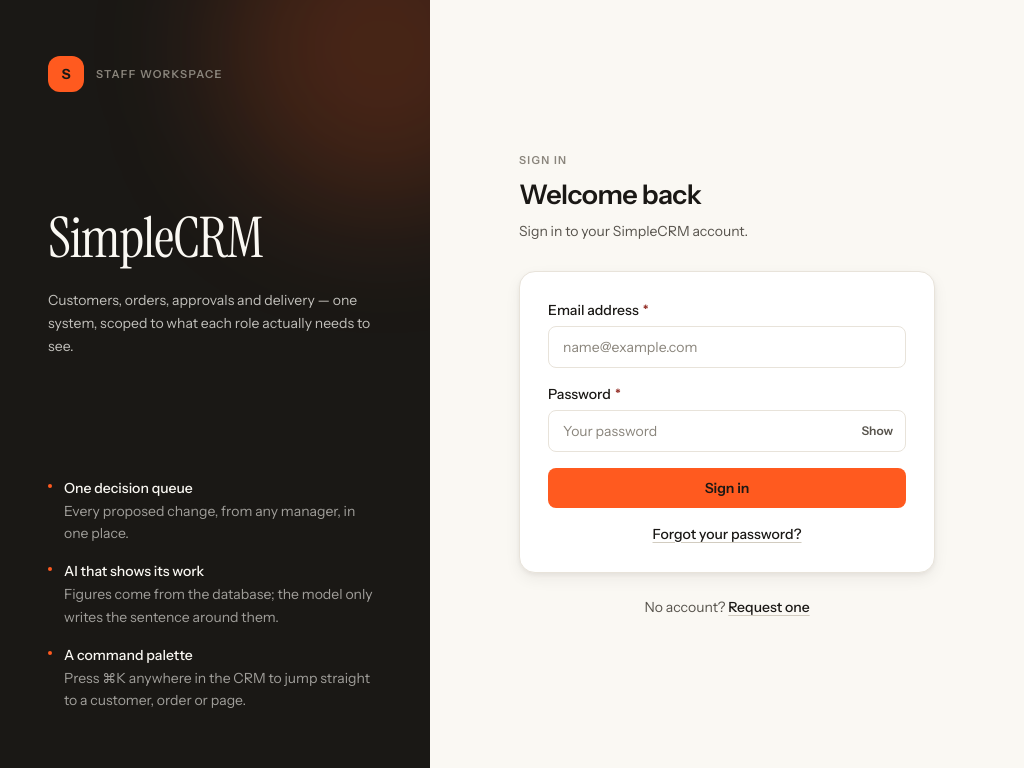
Test: Login › shows the server’s message when the credentials are wrong
Type "ayesha@example.com" into the field labelled "Email address*".
click(727, 346); type("ayesha@example.com")  # box [548,326,906,368]
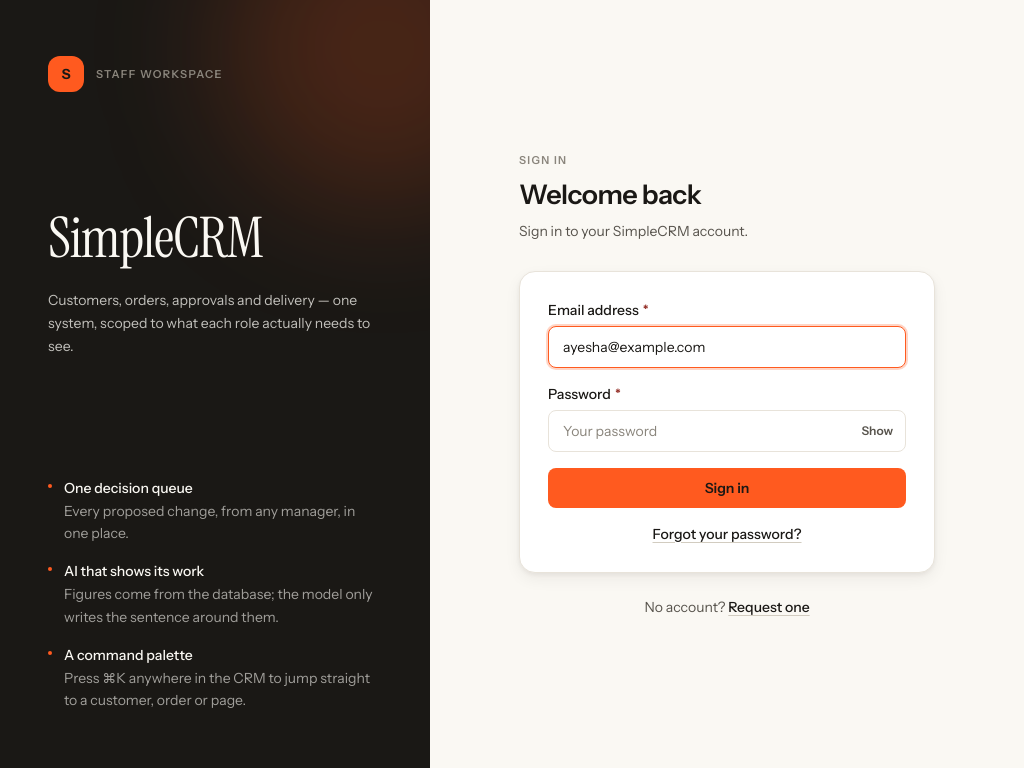
Type "wrong-password" into the password field labelled "Password*".
click(727, 430); type("wrong-password")  # box [548,410,906,452]
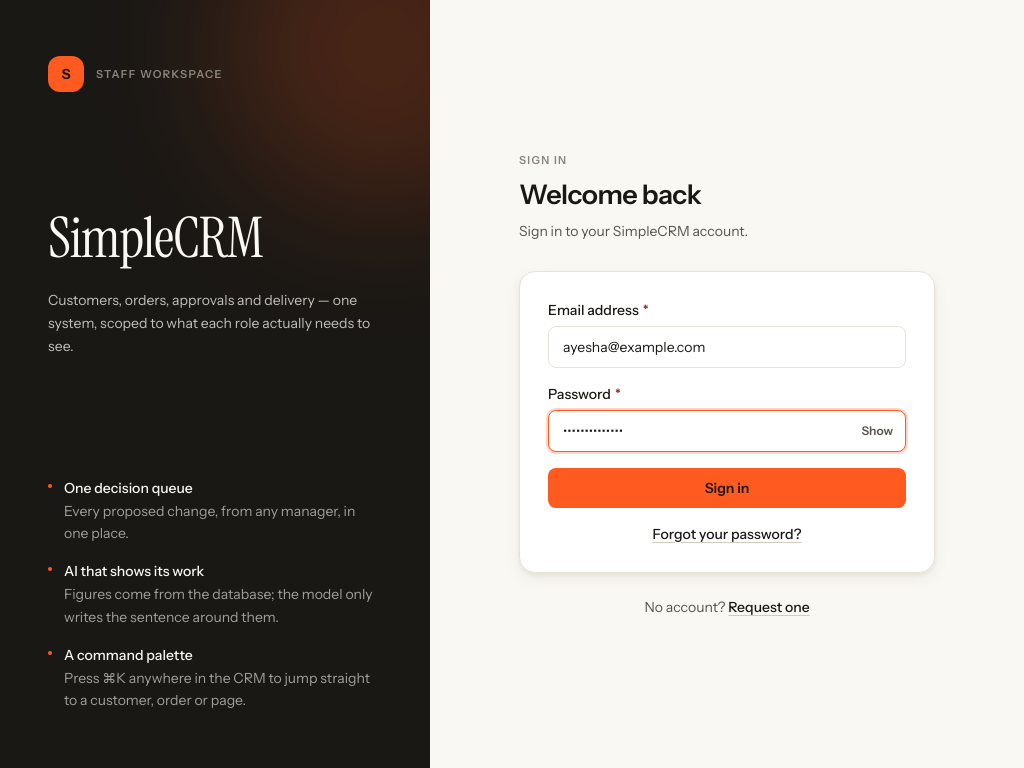
Click the button "Sign in".
click(727, 488)  # box [548,468,906,508]
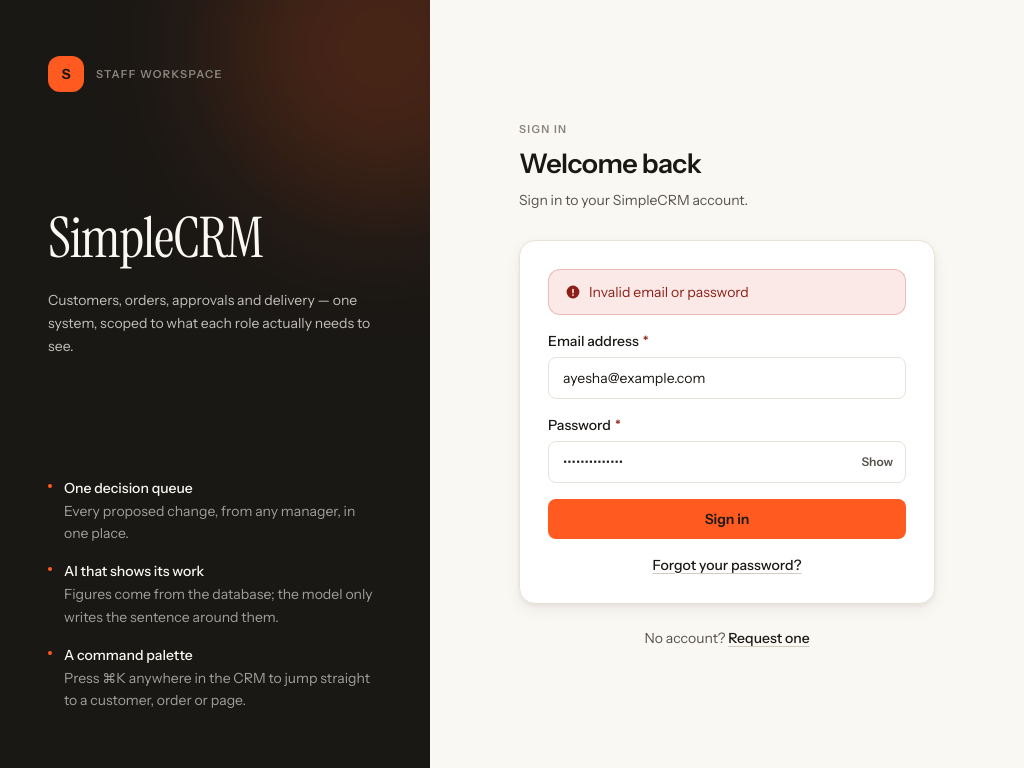
Expected: the text "Invalid email or password" is shown, [565,282,749,302]
